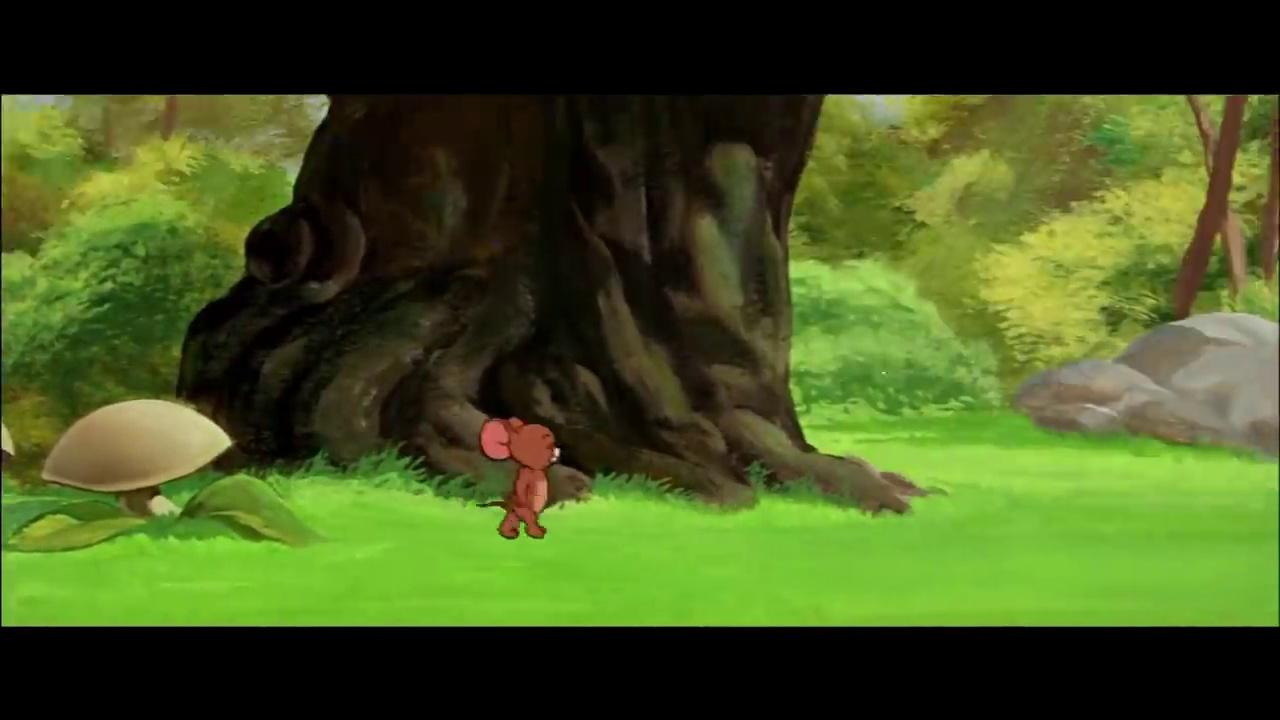Jerry: (476, 412, 565, 540)
